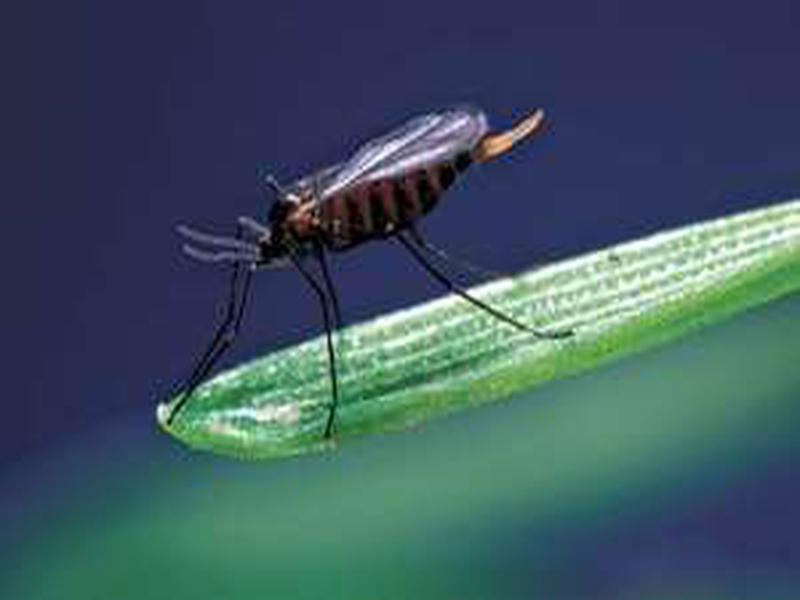Gall_midge: (203, 84, 534, 376)
